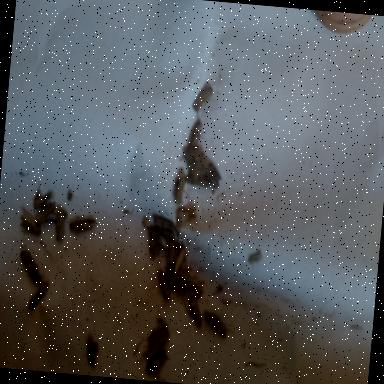pbw: (145, 223, 175, 256), (198, 152, 224, 188), (18, 248, 44, 282), (201, 310, 229, 338), (34, 199, 58, 229), (30, 278, 50, 310), (33, 183, 55, 212), (192, 84, 214, 112), (188, 117, 203, 156), (19, 208, 42, 233), (68, 214, 94, 234), (173, 169, 187, 203), (86, 334, 100, 366), (156, 270, 172, 298), (173, 243, 187, 274), (54, 206, 66, 240)
